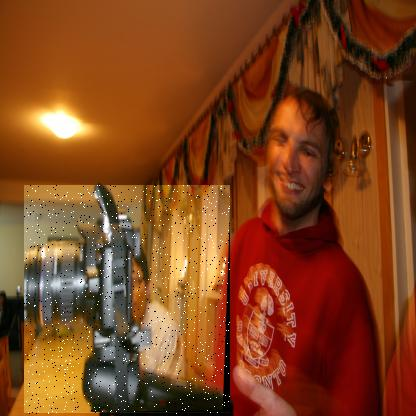Camera: (25, 187, 232, 416)
